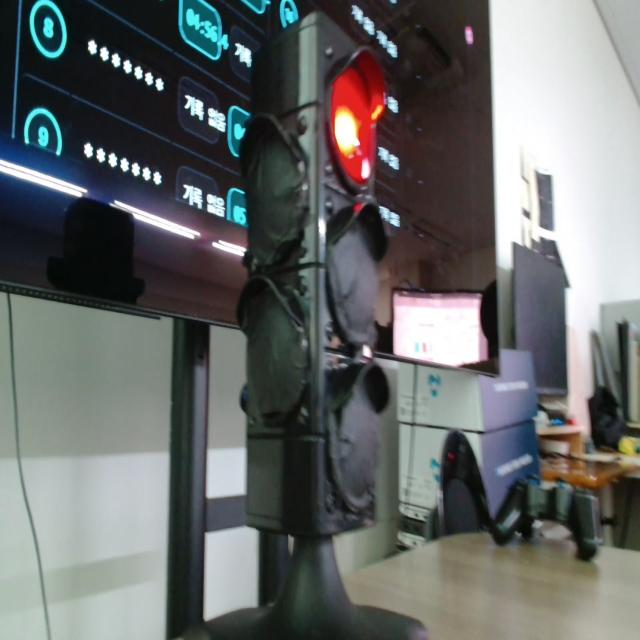red_light: (330, 50, 385, 187)
